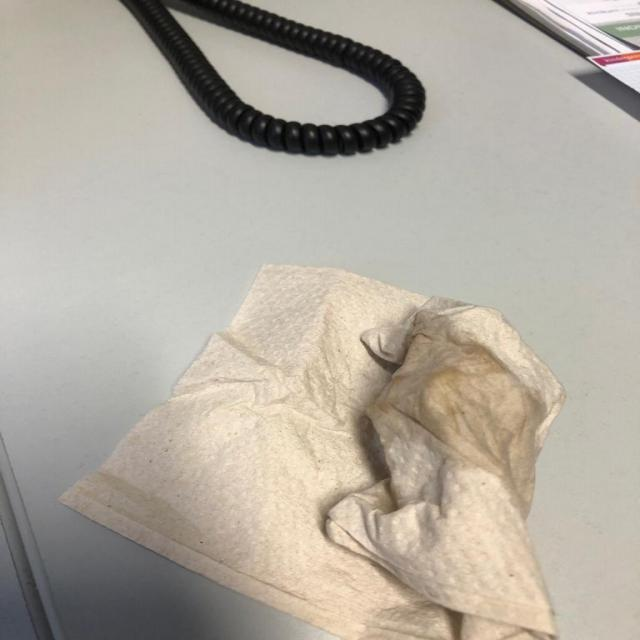kitchen paper: (54, 258, 565, 640)
